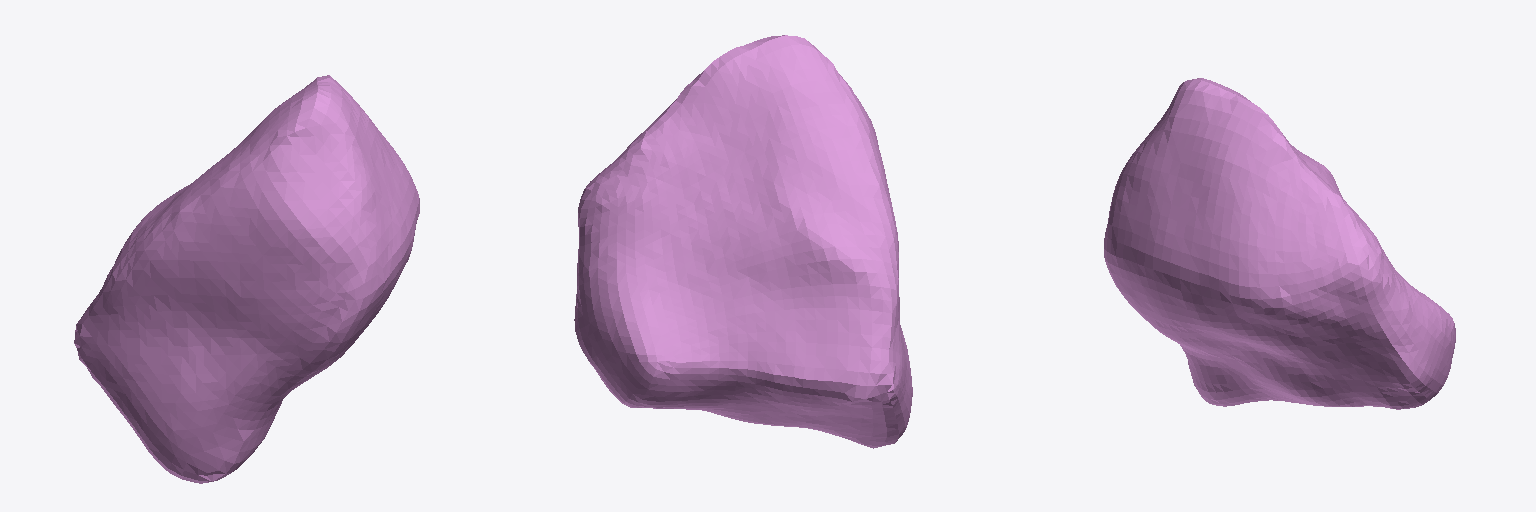
The model's file is Cuniform_Lateral.obj.
The picture shows the model from 3 angles: view 1: azimuth 30°, elevation 25°; view 2: azimuth 150°, elevation 25°; view 3: azimuth 270°, elevation 25°; orthographic projection.
Visible parts, largest first — view 1: Object_0Cuniform_Lateral; view 2: Object_0Cuniform_Lateral; view 3: Object_0Cuniform_Lateral.
Boxes of the visible parts, x1,y1,x2,y2 form: Object_0Cuniform_Lateral: [74, 75, 419, 483]; Object_0Cuniform_Lateral: [574, 35, 912, 448]; Object_0Cuniform_Lateral: [1104, 78, 1455, 409].
Size of the model in its own units: 27.47 by 31.92 by 27.33.